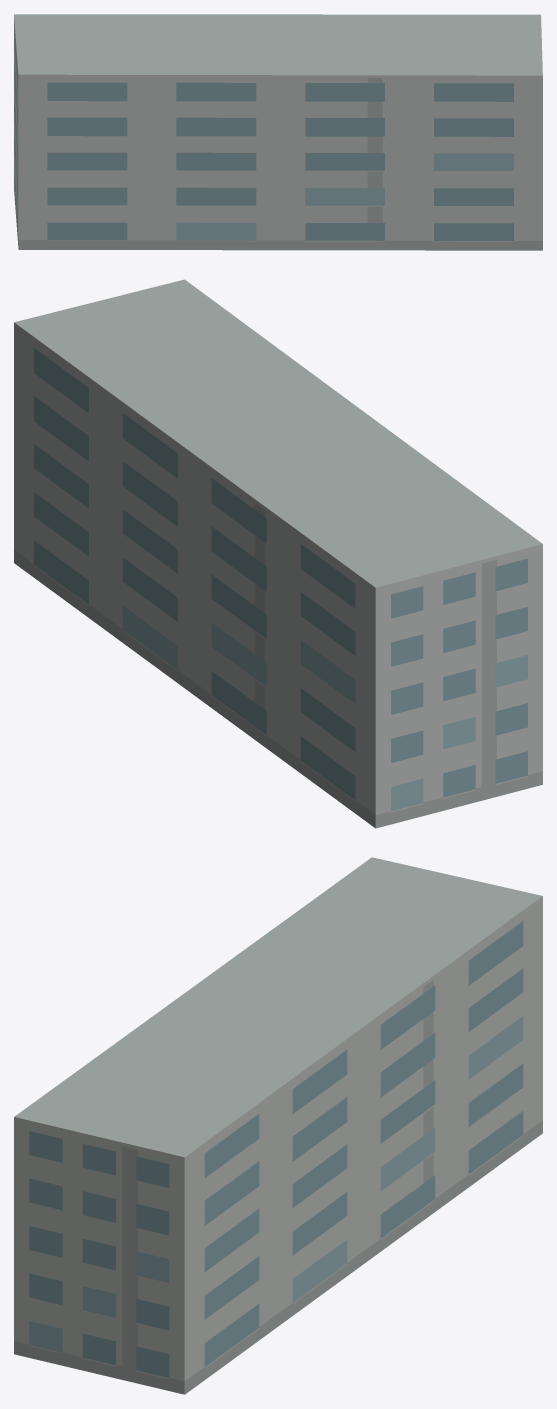
The model's file is residential-0856c428-36ed-4afd-ac2c-acc2e1bc1b48.glb.
3 views of the same model, one above another, from view 1: azimuth 30°, elevation 25°; view 2: azimuth 150°, elevation 25°; view 3: azimuth 270°, elevation 25° (orthographic). The views are drawn at different scales.
Visible parts, largest first — view 1: residential-0856c428-36ed-4afd-ac2c-acc2e1bc1b48.tmp; view 2: residential-0856c428-36ed-4afd-ac2c-acc2e1bc1b48.tmp; view 3: residential-0856c428-36ed-4afd-ac2c-acc2e1bc1b48.tmp.
Part boxes in pixels (left/top/right/bottom): residential-0856c428-36ed-4afd-ac2c-acc2e1bc1b48.tmp: left=14, top=14, right=542, bottom=250; residential-0856c428-36ed-4afd-ac2c-acc2e1bc1b48.tmp: left=14, top=279, right=542, bottom=828; residential-0856c428-36ed-4afd-ac2c-acc2e1bc1b48.tmp: left=14, top=857, right=542, bottom=1394.
Bounding box in the file's own units: 41.36 × 15.25 × 30.8.
